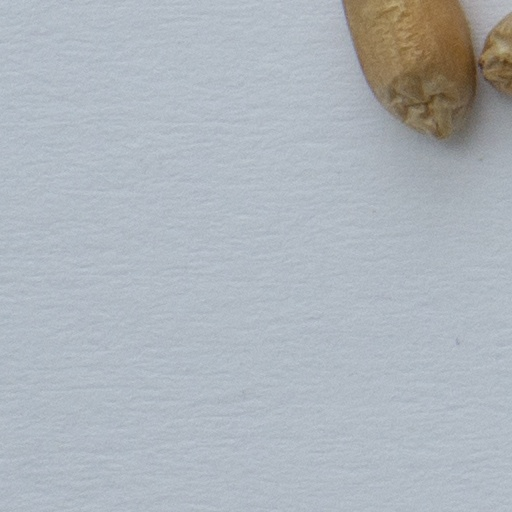Wheat-grain-poly: (340, 0, 477, 143), (477, 12, 511, 100)
